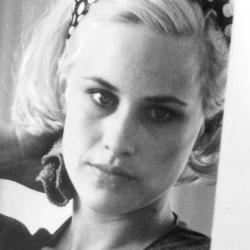face: (9, 1, 216, 216)
